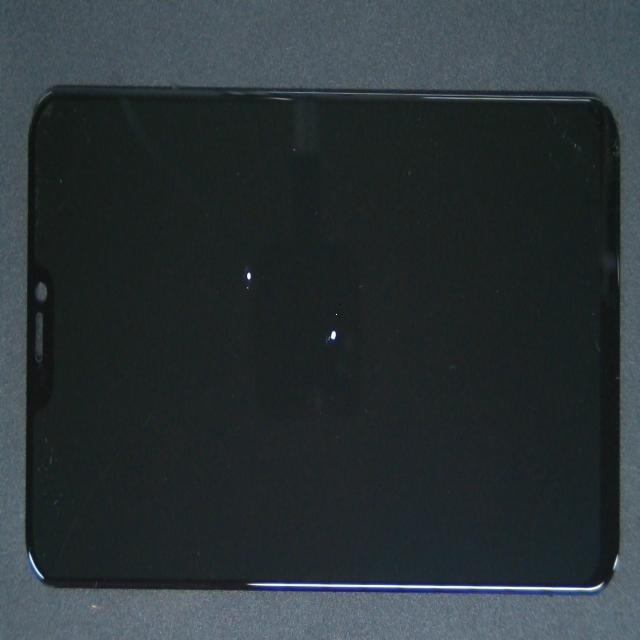stain: (155, 162, 485, 523), (80, 100, 371, 441)
